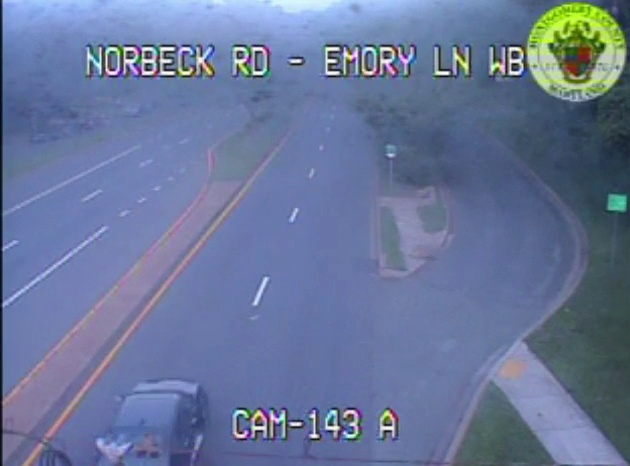car: (96, 381, 208, 466)
